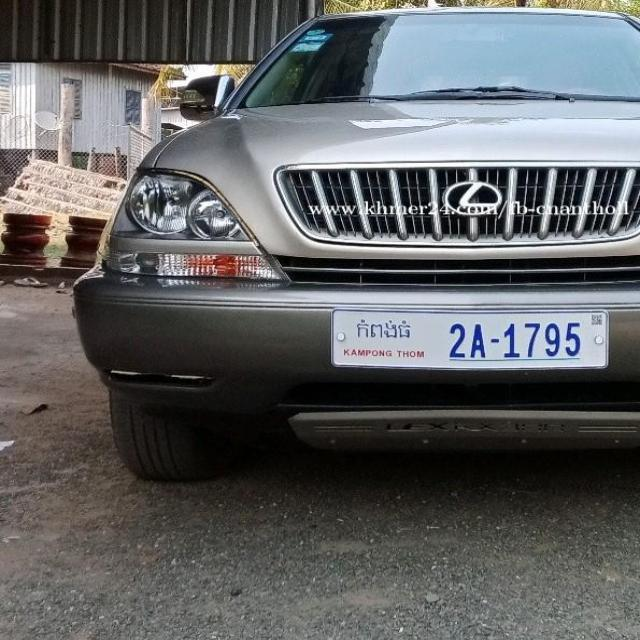Kampong_Thom: (356, 318, 411, 342)
